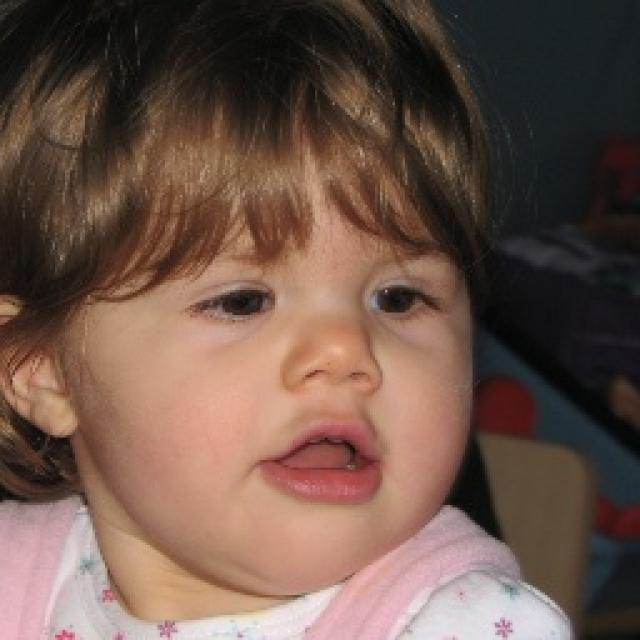earlobe: (33, 387, 80, 439)
eye: (369, 282, 430, 316), (204, 290, 275, 318)
nose: (285, 375, 383, 409)
wholeear: (0, 294, 80, 438)
